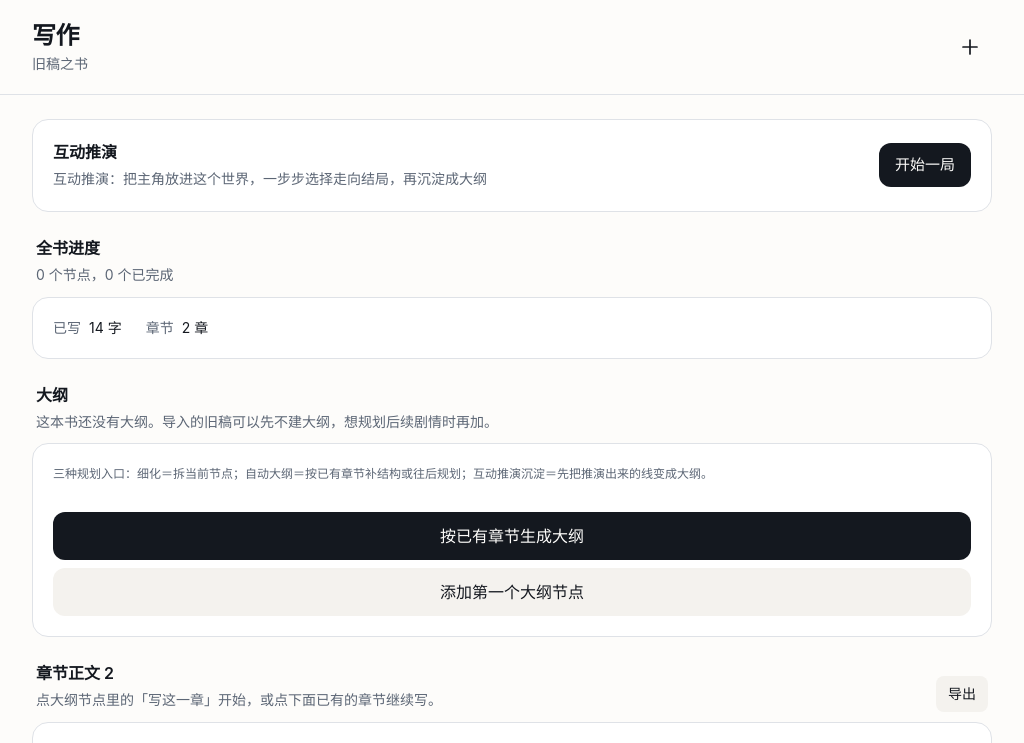
M3-S2 · 确认 / 关闭 / 失败 › 确认生成：1:1 节点 + 章节关联回填，正文/编号/标题不变，重进入口消失
The image size is (1024, 743).
Click the button "按已有章节生成大纲".
click(512, 536)  # box [53, 512, 971, 560]
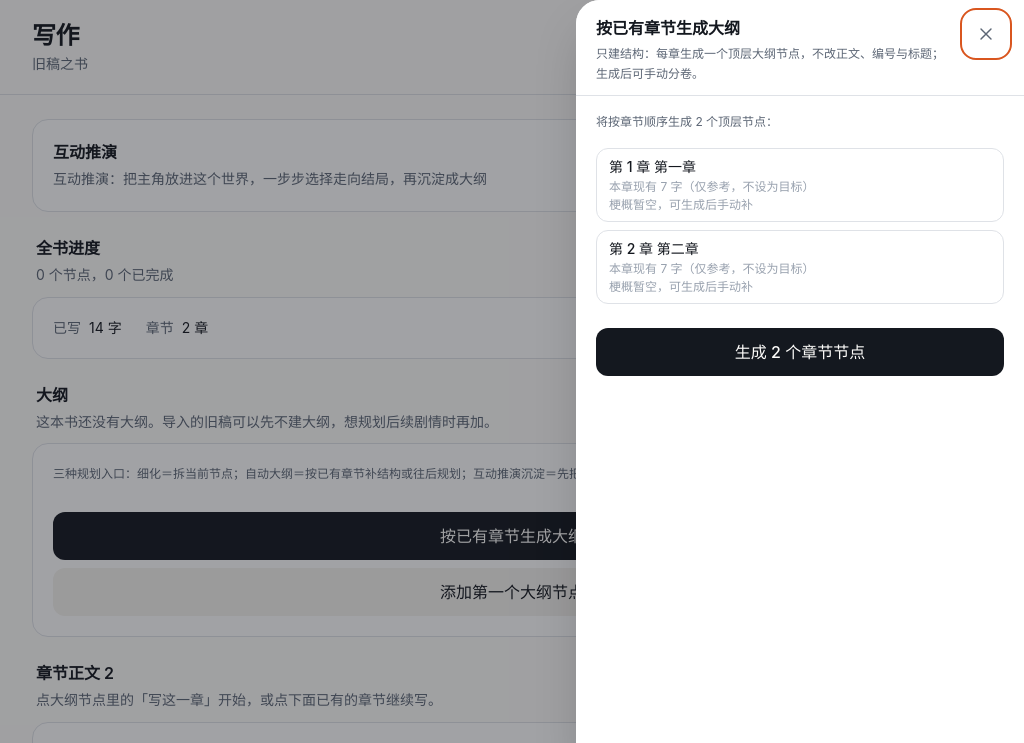
Click the button "生成 2 个章节节点".
click(800, 352)  # box [596, 328, 1004, 376]
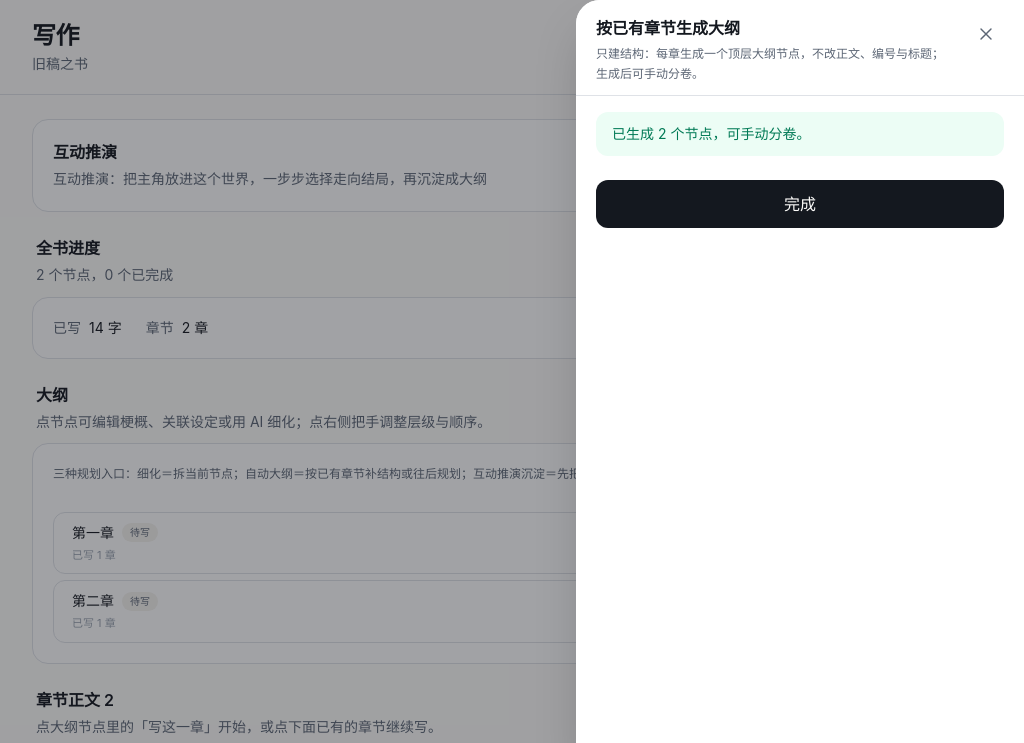
expect the text "已生成 2 个节点，可手动分卷。" is shown: met, box [596, 112, 1004, 156]
Click the button "完成".
click(800, 204)  # box [596, 180, 1004, 228]
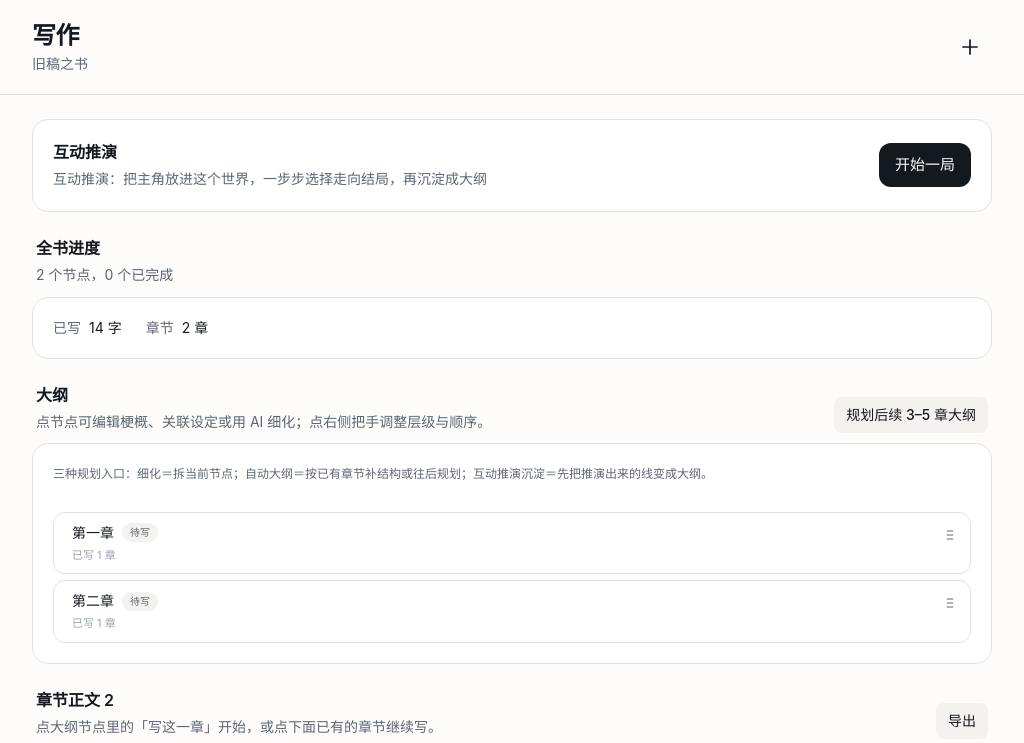
expect the button with aria-label "编辑「第一章」" is shown: met, box [64, 513, 932, 573]
expect the button with aria-label "编辑「第二章」" is shown: met, box [64, 581, 932, 642]
expect the heading "按已有章节生成大纲" is gone: met
